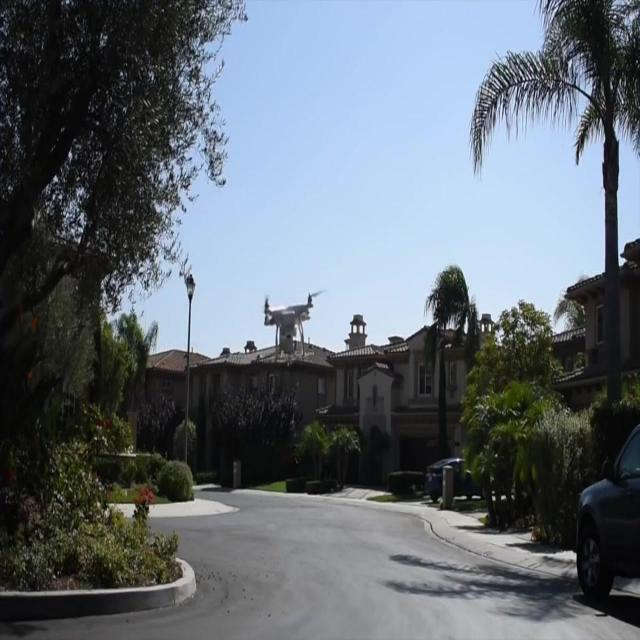UAV: (264, 290, 326, 366)
